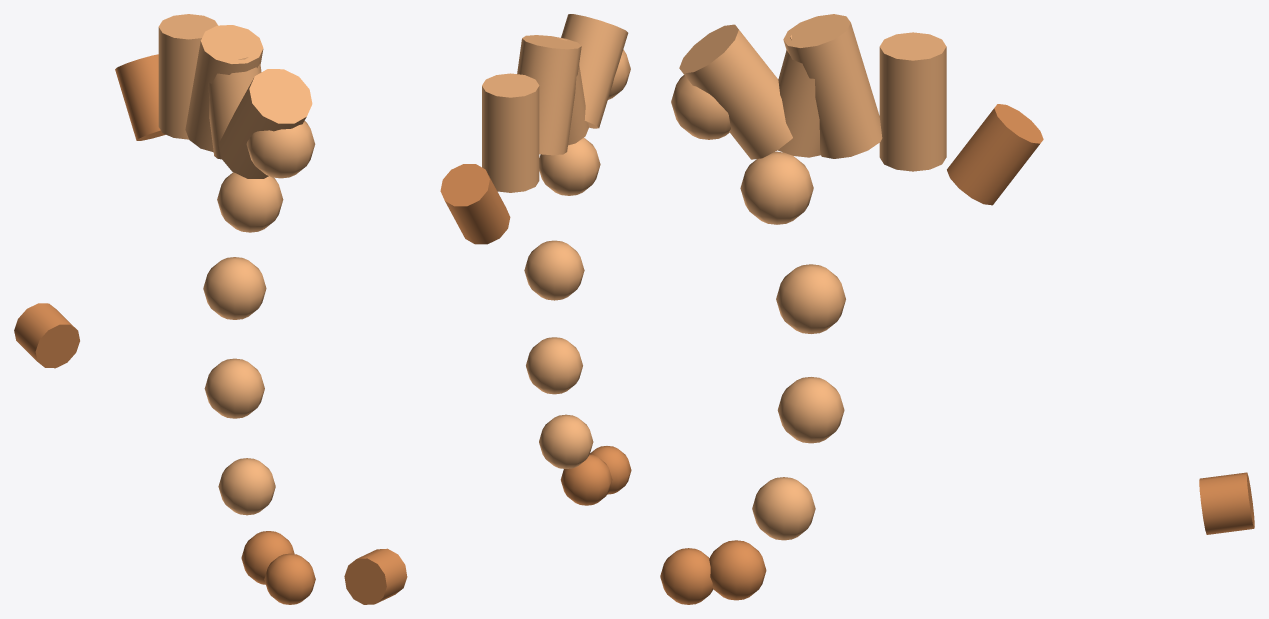
Rendered from cat_tail.glb.
3 renders of one model, left to right at view 1: azimuth 30°, elevation 25°; view 2: azimuth 150°, elevation 25°; view 3: azimuth 270°, elevation 25°, orthographic. The views are drawn at different scales.
Visible parts, largest first — view 1: cat_tail; view 2: cat_tail; view 3: cat_tail.
Part boxes in pixels (<box>): cat_tail: <box>14,14,315,604</box>; cat_tail: <box>344,14,631,604</box>; cat_tail: <box>660,14,1254,604</box>.
Bounding box in the file's own units: 0.056 × 0.4704 × 0.4373.
